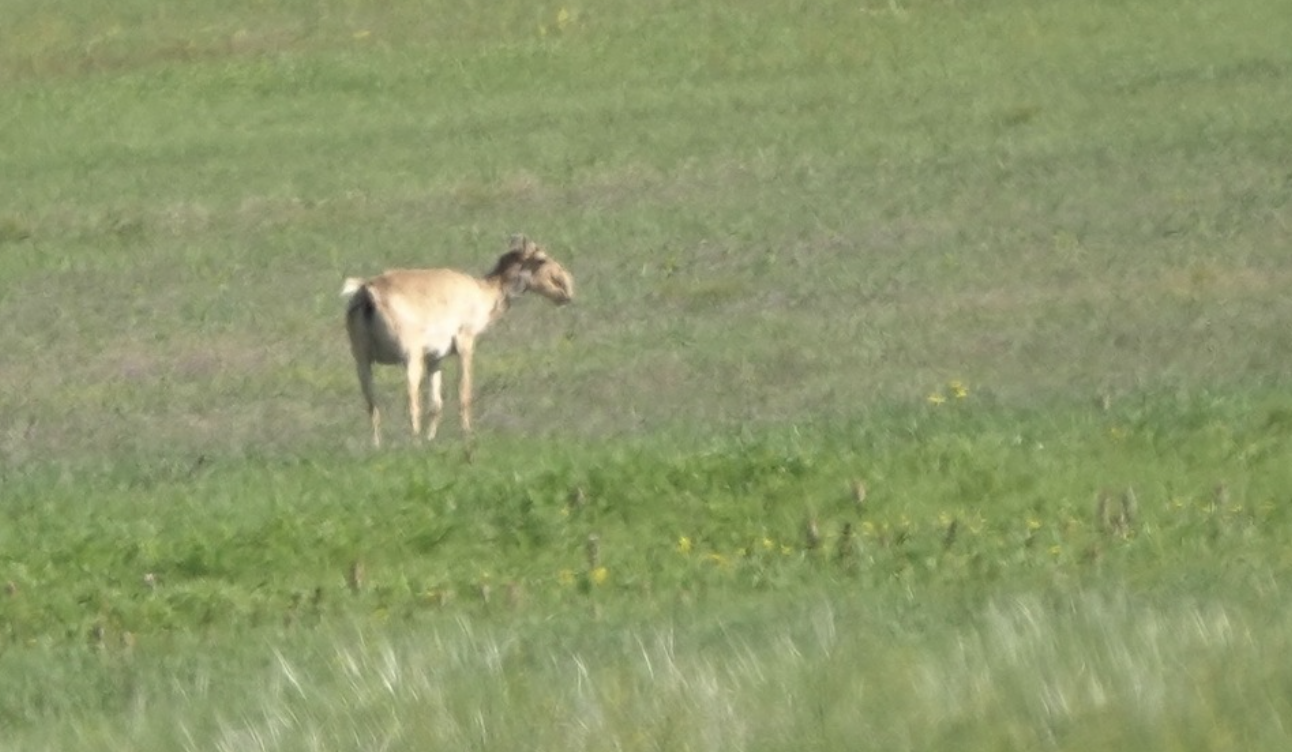saiga: (309, 209, 649, 429)
